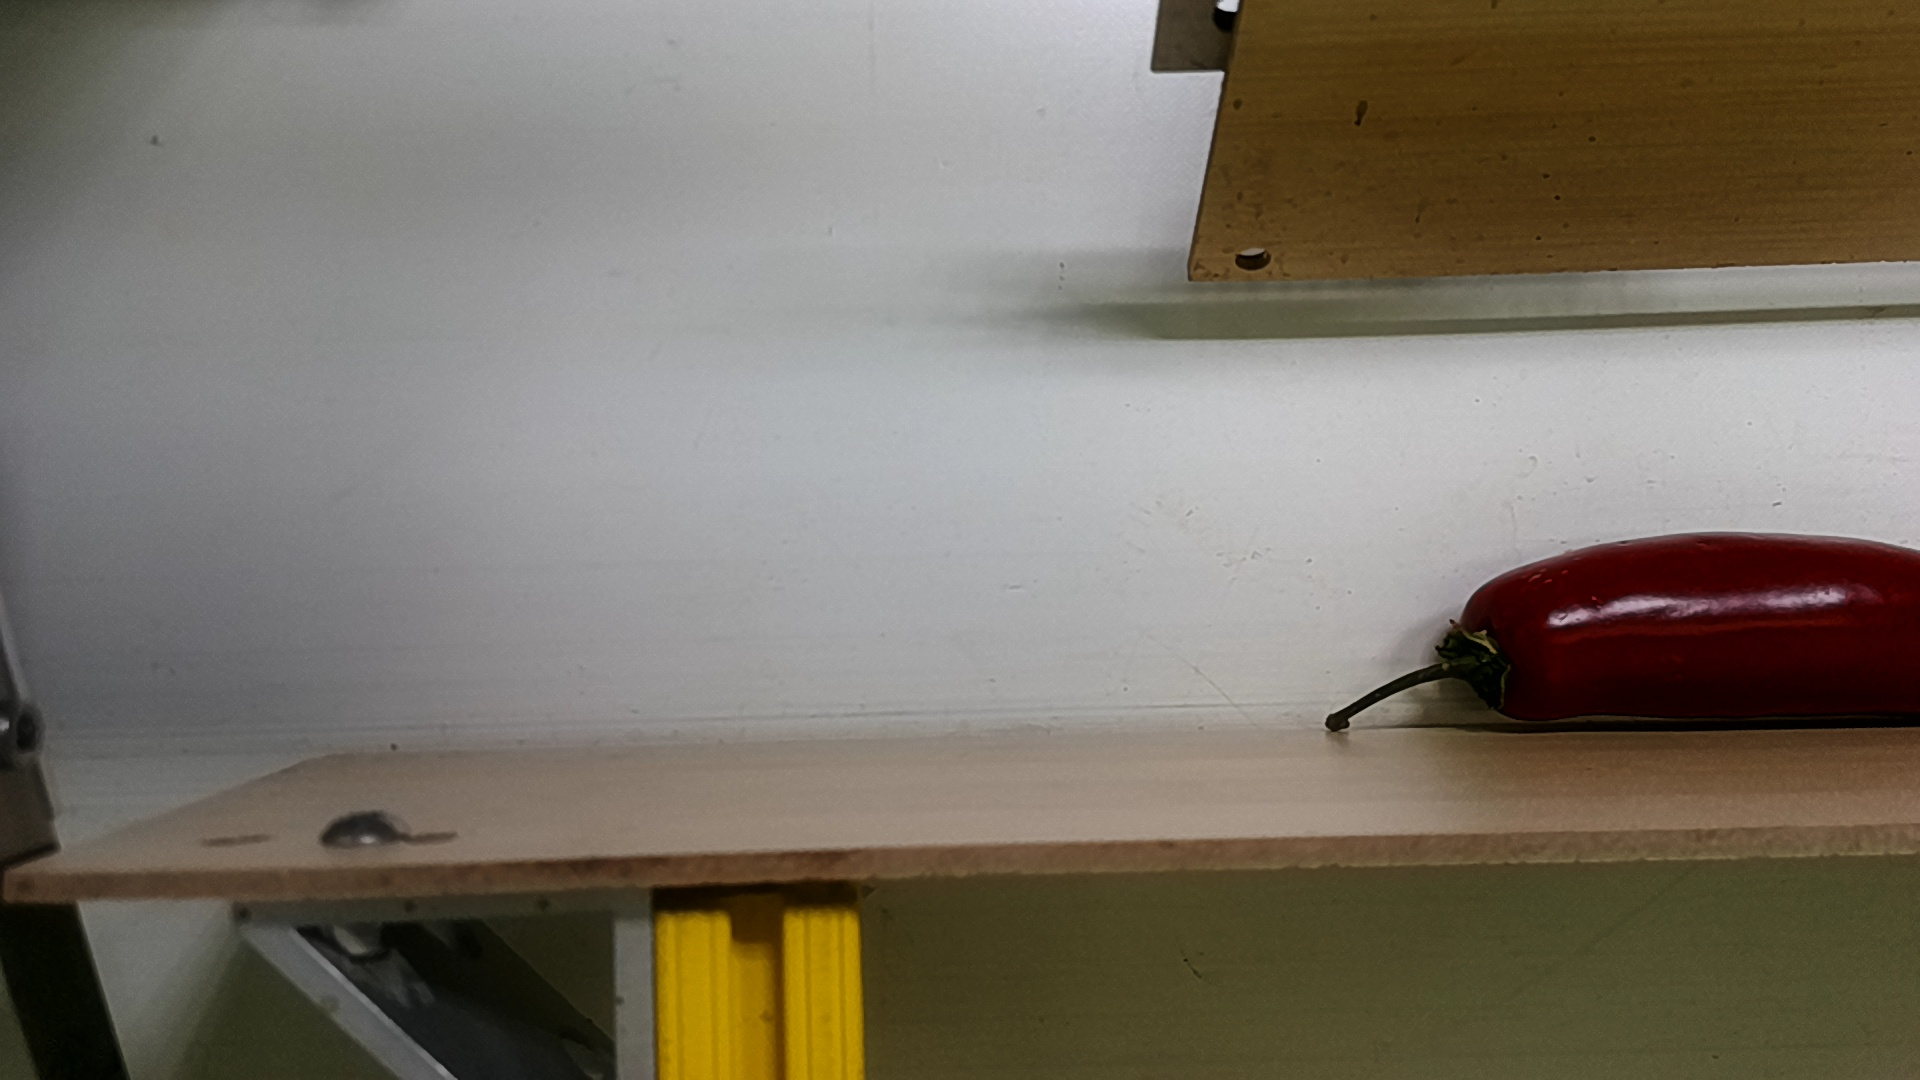Cut Point: (1439, 559, 1557, 735)
